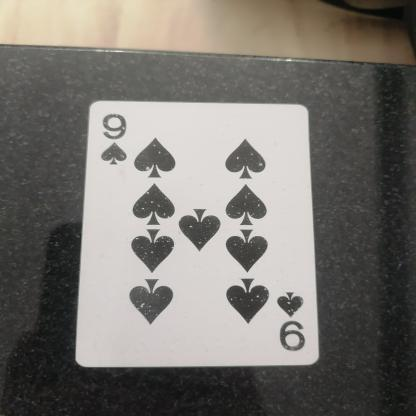9S: (268, 285, 318, 358), (96, 108, 131, 175)
